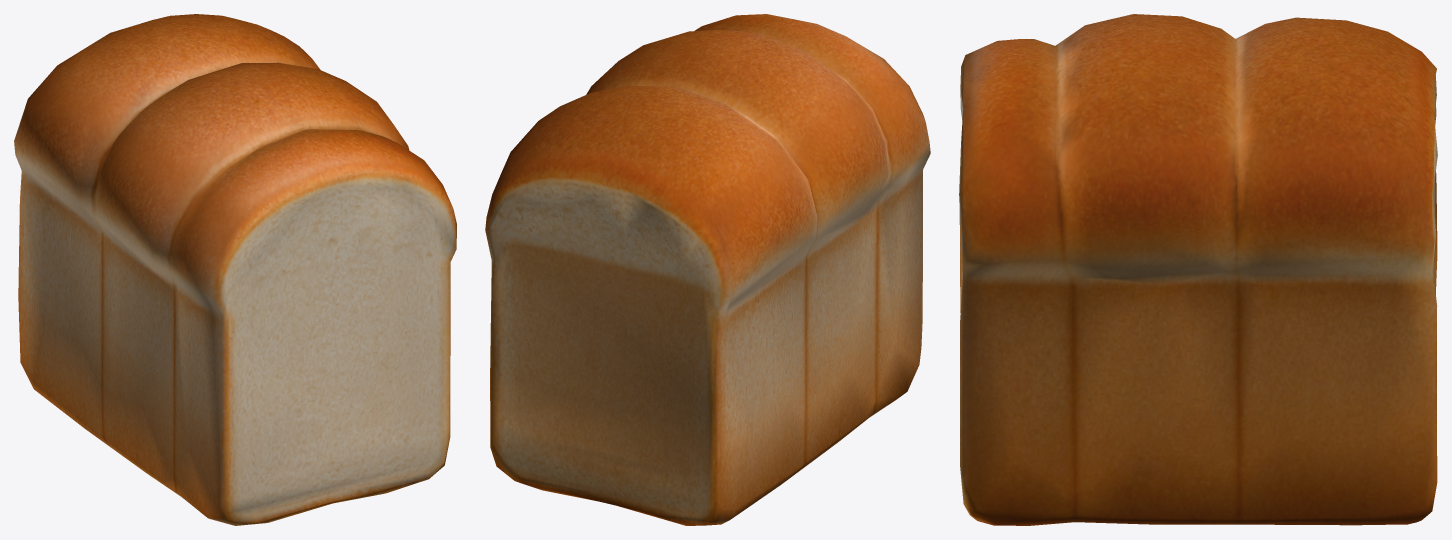
File: Food_Bread.fbx
3 views of the same model, side by side, from view 1: azimuth 30°, elevation 25°; view 2: azimuth 150°, elevation 25°; view 3: azimuth 270°, elevation 25° (orthographic). The views are drawn at different scales.
Visible parts, largest first — view 1: Food_Bread; view 2: Food_Bread; view 3: Food_Bread.
Part boxes in pixels (x1,y1,x2,y2): Food_Bread: (14,14,456,525); Food_Bread: (485,14,930,525); Food_Bread: (959,14,1437,525).
Bounding box in the file's own units: 0.1972 × 0.2601 × 0.26.
Materials: 1 (1 with a texture image).
